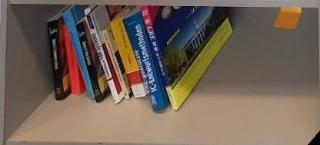book-spine: (121, 11, 166, 115), (140, 5, 178, 112), (84, 13, 121, 106), (109, 17, 147, 101), (62, 9, 96, 102), (75, 22, 103, 104), (101, 28, 130, 101), (47, 20, 65, 101)
